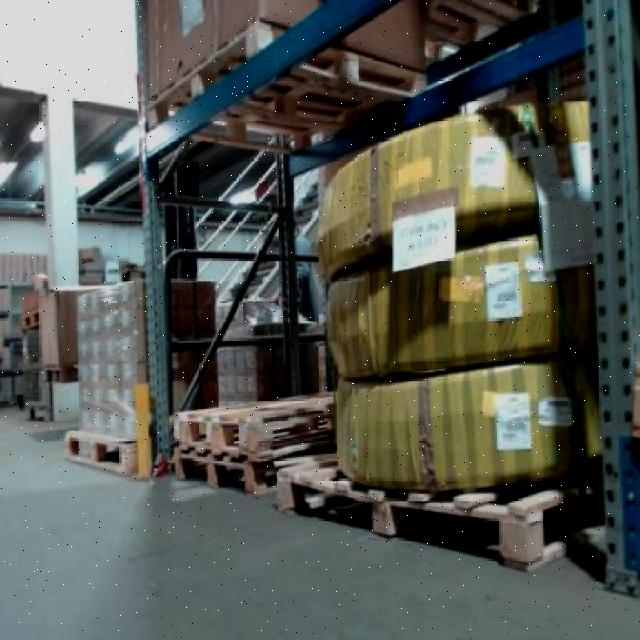pallet: (268, 444, 612, 584), (138, 9, 441, 167), (160, 378, 348, 503), (55, 418, 149, 490)
